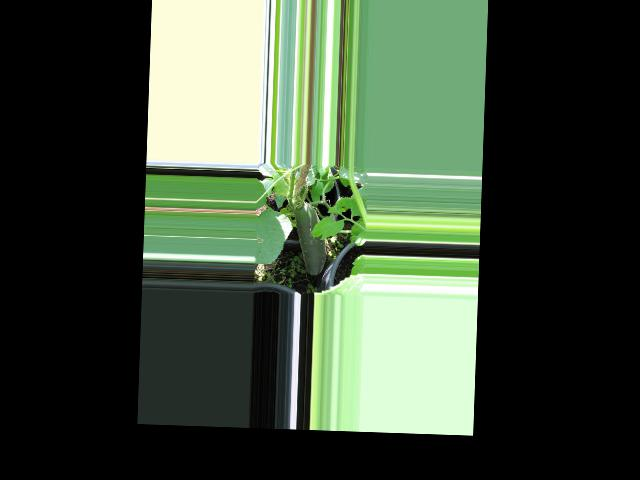cucumber: (292, 201, 327, 275)
